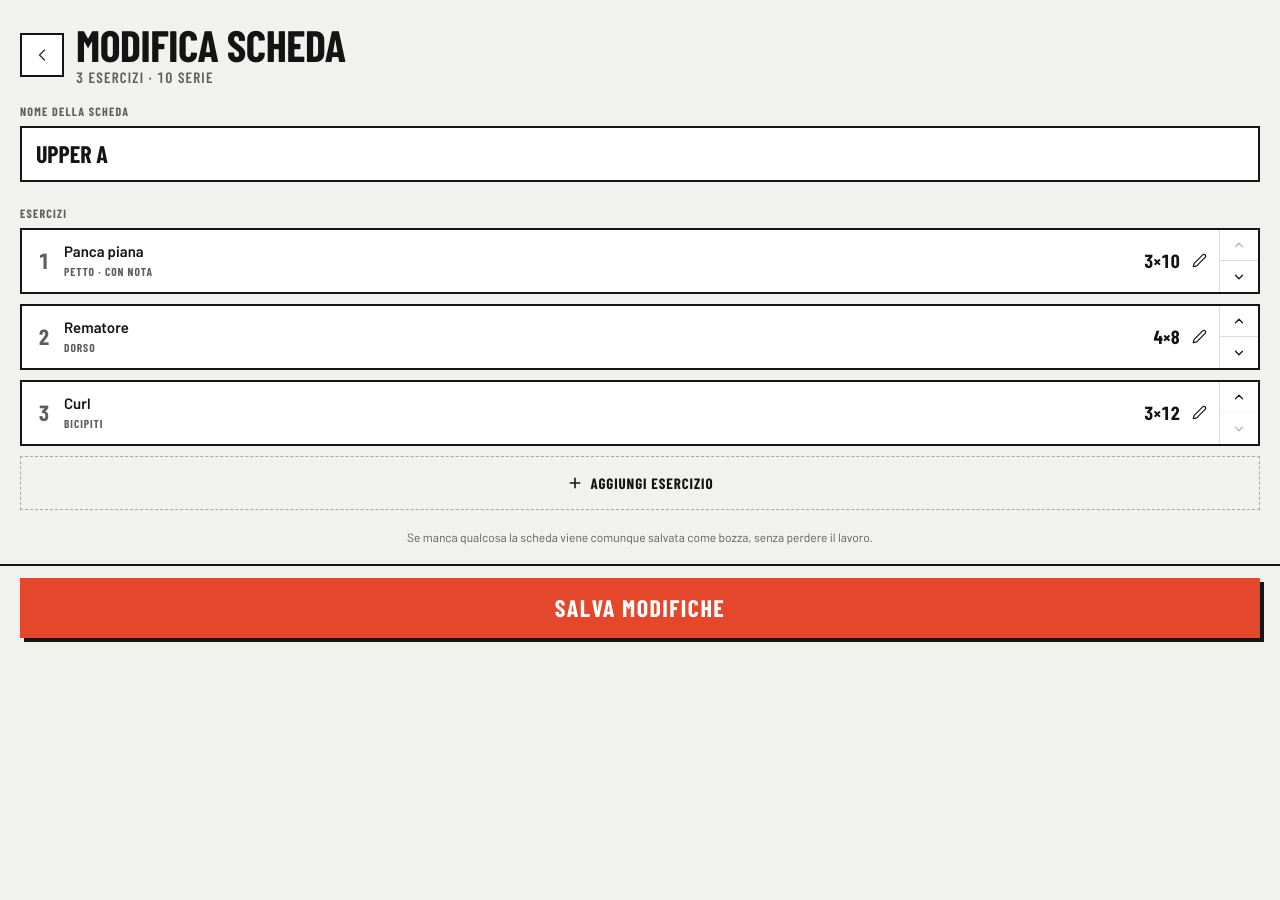
Scenario: il form della scheda — esercizi compressi › «Fino a cedimento» scrive max, e spento ridà le ripetizioni di prima
Click the button "3 Curl Bicipiti 3×12".
click(84, 423)  # box [22,382,1219,444]
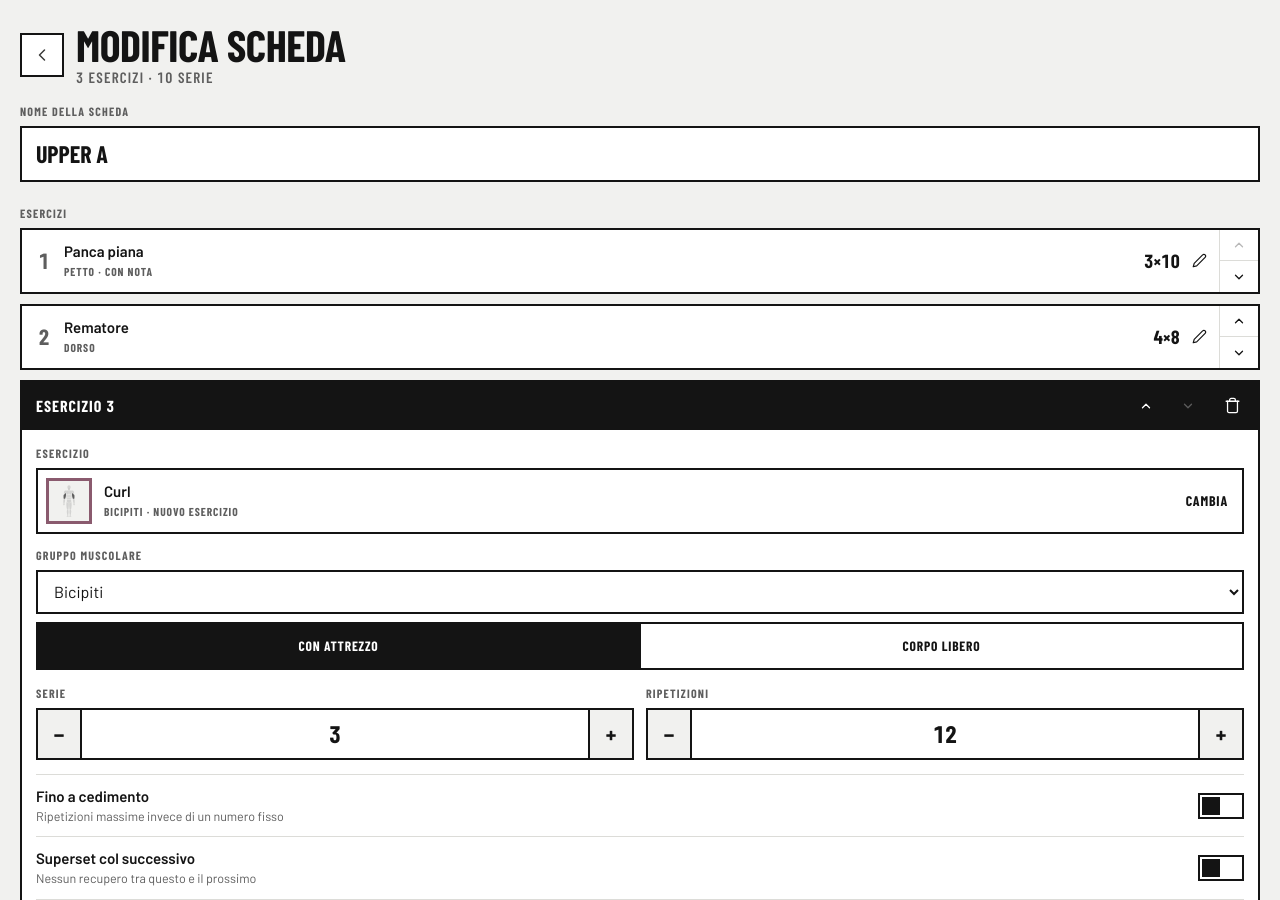
Click the switch named "Fino a cedimento".
click(1221, 806)  # box [1198,793,1244,819]
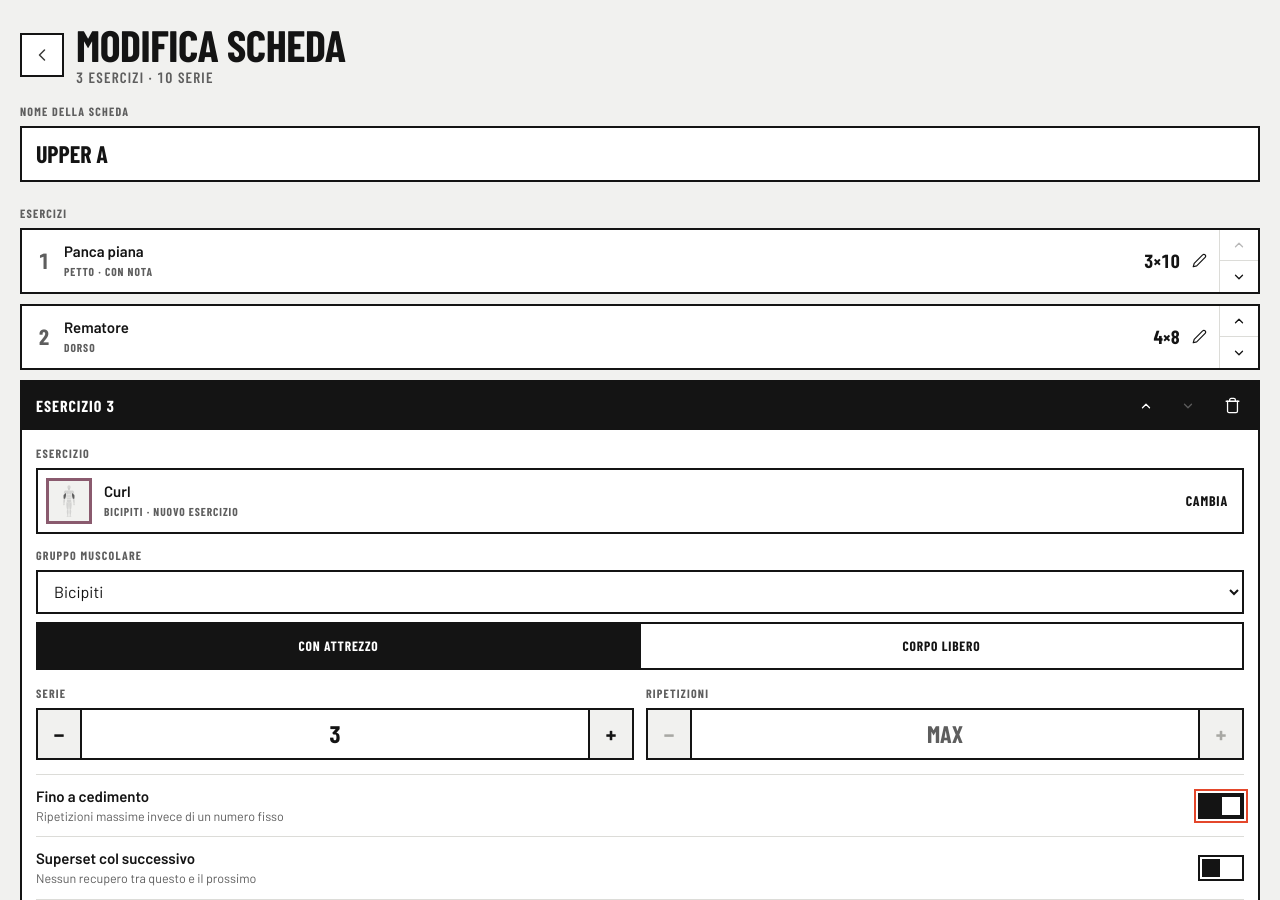
Expected: the field named "Ripetizioni" holds "max", [692,710,1198,758]
Expected: the button named "Ripetizioni: uno in più" is disabled, [1198,710,1242,758]
Click the switch named "Fino a cedimento".
click(1221, 806)  # box [1198,793,1244,819]
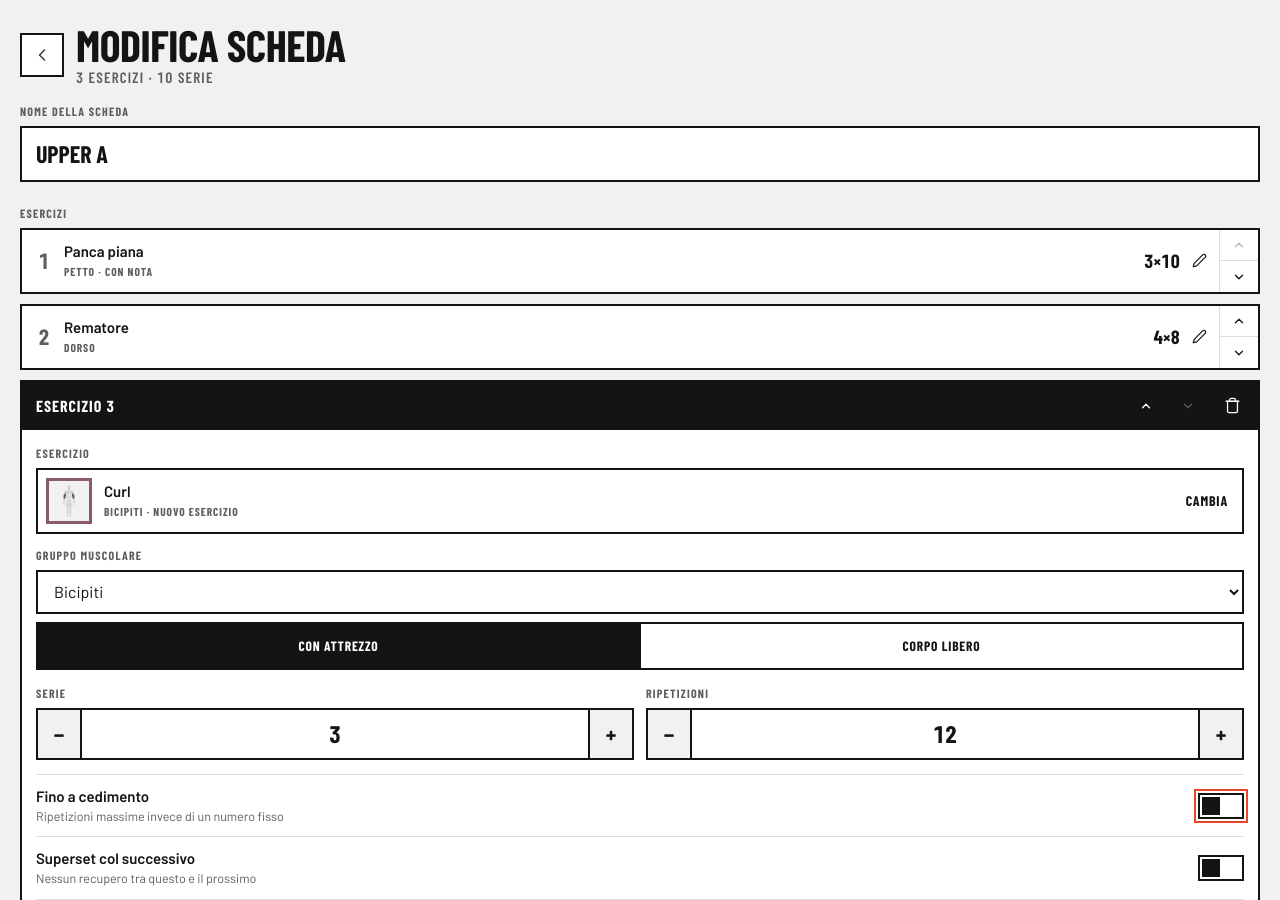
Expected: the field named "Ripetizioni" holds "12", [692,710,1198,758]
